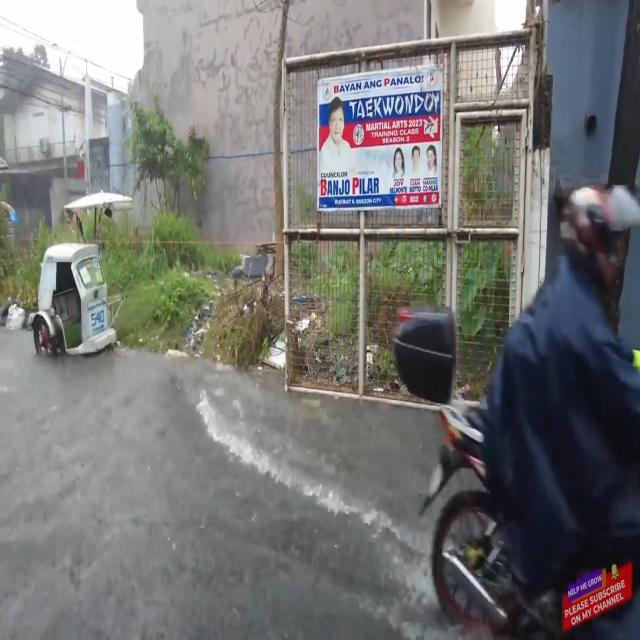full: (558, 184, 640, 286)
